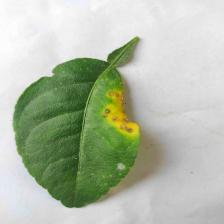canker: (96, 81, 144, 144)
